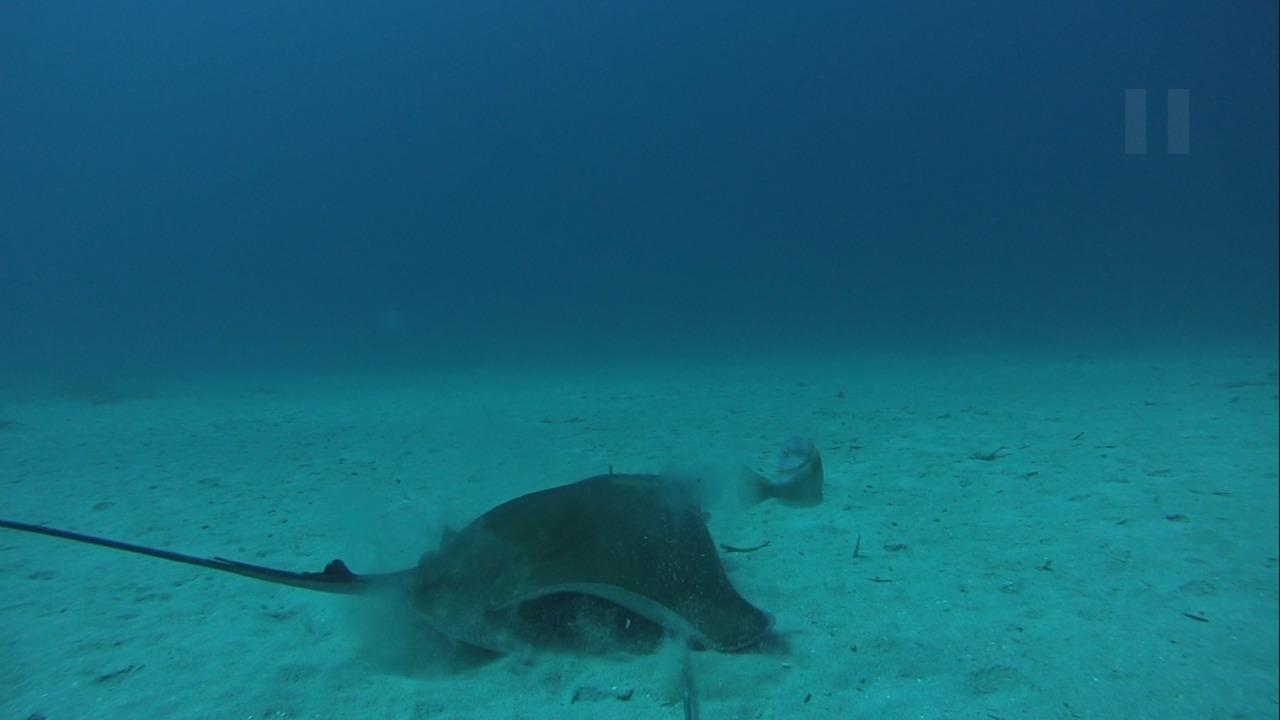myliobatis: (4, 468, 775, 665)
raor: (742, 438, 828, 519)
